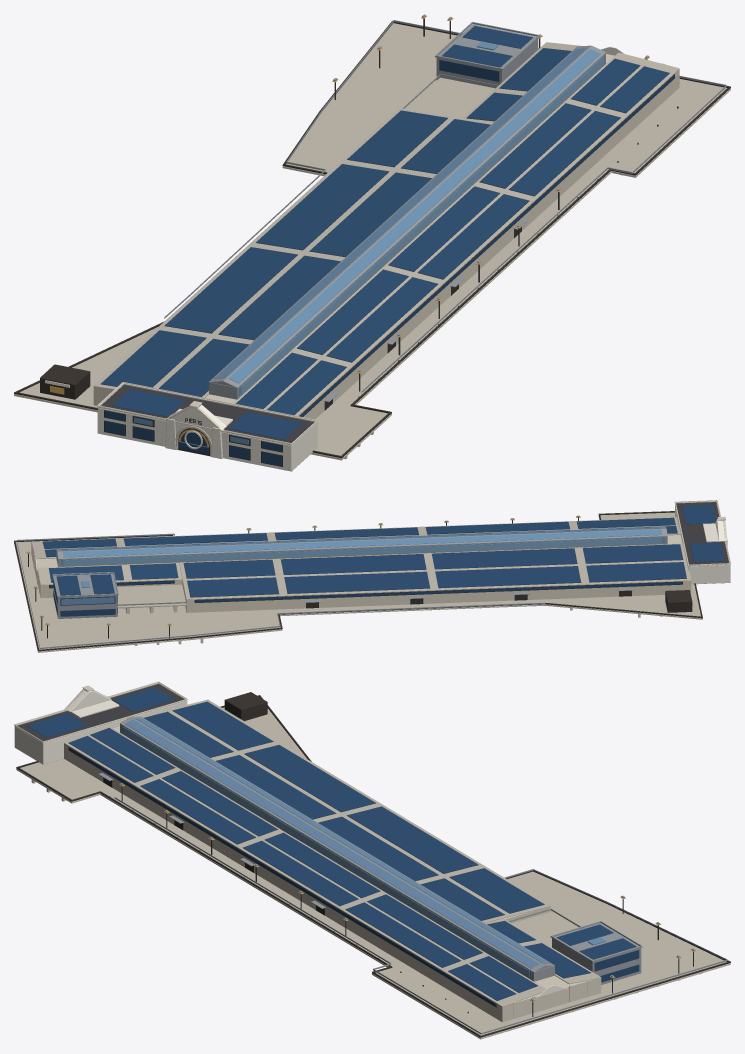
File: pier-15.optimized.glb
3 renders of one model, top to bottom at view 1: azimuth 30°, elevation 25°; view 2: azimuth 150°, elevation 25°; view 3: azimuth 270°, elevation 25°, orthographic. The views are drawn at different scales.
Parts seen in each view (by area): view 1: grp_Toy_glass, grp_Toy_conc, grp_Toy_steel, grp_Toy_glassl, grp_Toy_stone, grp_Toy_ink, grp_Toy_cream, grp_Toy_glassl_Glow, bulkhead_roof; view 2: grp_Toy_glass, grp_Toy_conc, grp_Toy_stone, grp_Toy_steel, grp_Toy_glassl, grp_Toy_ink, grp_Toy_glassl_Glow, grp_Toy_cream, bulkhead_roof, grp_Toy_glass_Glow; view 3: grp_Toy_glass, grp_Toy_conc, grp_Toy_stone, grp_Toy_steel, grp_Toy_glassl, grp_Toy_ink, grp_Toy_glassl_Glow, grp_Toy_cream, bulkhead_roof.
Part boxes in pixels (x1,y1,x2,y2): grp_Toy_glass: (101, 26, 674, 466); grp_Toy_conc: (19, 23, 726, 455); grp_Toy_steel: (164, 14, 726, 447); grp_Toy_glassl: (214, 41, 604, 395); grp_Toy_stone: (14, 54, 730, 460); grp_Toy_ink: (14, 18, 730, 466); grp_Toy_cream: (97, 46, 624, 471); grp_Toy_glassl_Glow: (241, 57, 603, 393); bulkhead_roof: (101, 385, 314, 442); grp_Toy_glass: (42, 505, 724, 616); grp_Toy_conc: (15, 512, 700, 649); grp_Toy_stone: (14, 500, 730, 652); grp_Toy_steel: (16, 515, 667, 648); grp_Toy_glassl: (61, 527, 664, 587); grp_Toy_ink: (14, 511, 702, 651); grp_Toy_glassl_Glow: (63, 537, 662, 565); grp_Toy_cream: (34, 500, 730, 584); bulkhead_roof: (676, 502, 728, 564); grp_Toy_glass_Glow: (61, 597, 114, 604); grp_Toy_glass: (26, 687, 639, 1006); grp_Toy_conc: (20, 699, 726, 1035); grp_Toy_stone: (14, 681, 730, 1039); grp_Toy_steel: (98, 716, 727, 1034); grp_Toy_glassl: (121, 718, 605, 978); grp_Toy_ink: (16, 692, 730, 1037); grp_Toy_glassl_Glow: (123, 727, 529, 977); grp_Toy_cream: (14, 682, 567, 997); bulkhead_roof: (17, 684, 183, 741).
Bounding box in the file's own units: 249 × 16.4 × 221.
